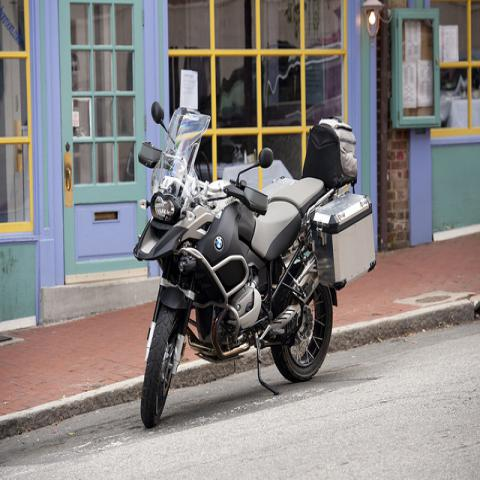motorcycle: (136, 95, 379, 431)
